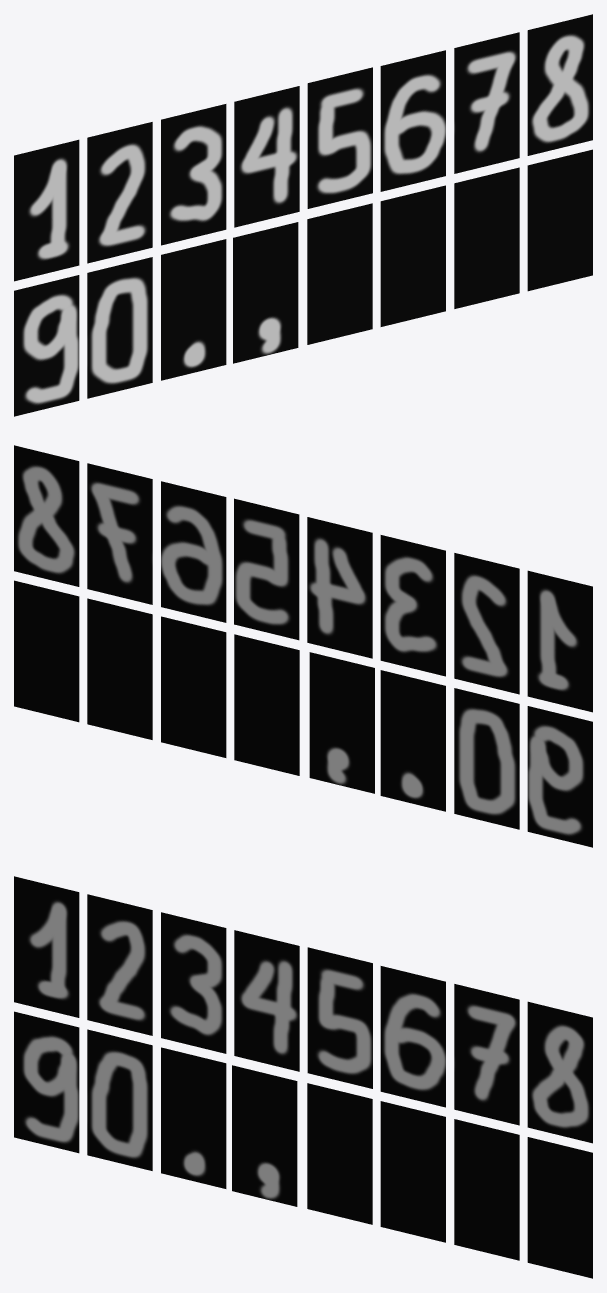
The model's file is Alphabet.obj.
3 views of the same model, one above another, from view 1: azimuth 30°, elevation 25°; view 2: azimuth 150°, elevation 25°; view 3: azimuth 330°, elevation 25° (orthographic).
Visible parts, largest first — view 1: 6_Plane.6, 4_Plane.4, 1_Plane.1, 13_Plane.018, 12_Plane.12, 10_Plane.10, 5_Plane.5, 11_Plane.11, 8_Plane.8, 2_Plane.2, 13.002_Plane.019, 9_Plane.9 (+4 smaller); view 2: 6_Plane.6, 4_Plane.4, 1_Plane.1, 13_Plane.018, 12_Plane.12, 10_Plane.10, 8_Plane.8, 2_Plane.2, 13.002_Plane.019, 9_Plane.9, 3_Plane.3, 13.001_Plane.020 (+4 smaller); view 3: 11_Plane.11, 4_Plane.4, 12_Plane.12, 8_Plane.8, 3_Plane.3, 13.001_Plane.020, 9_Plane.9, 7_Plane.7, 1_Plane.1, 13_Plane.018, 0_Plane.0, 6_Plane.6 (+4 smaller).
Part boxes in pixels (x1,y1,x2,y2): 6_Plane.6: [380, 50, 445, 191]; 4_Plane.4: [234, 86, 299, 227]; 1_Plane.1: [14, 139, 79, 281]; 13_Plane.018: [527, 149, 592, 291]; 12_Plane.12: [307, 203, 372, 344]; 10_Plane.10: [161, 239, 226, 380]; 5_Plane.5: [307, 67, 372, 208]; 11_Plane.11: [233, 222, 298, 363]; 8_Plane.8: [527, 14, 592, 155]; 2_Plane.2: [87, 122, 152, 263]; 13.002_Plane.019: [454, 167, 519, 308]; 9_Plane.9: [14, 275, 79, 416]; 6_Plane.6: [161, 481, 226, 622]; 4_Plane.4: [307, 517, 372, 658]; 1_Plane.1: [527, 570, 592, 712]; 13_Plane.018: [14, 580, 79, 722]; 12_Plane.12: [234, 634, 299, 775]; 10_Plane.10: [380, 670, 445, 811]; 8_Plane.8: [14, 445, 79, 586]; 2_Plane.2: [454, 553, 519, 694]; 13.002_Plane.019: [87, 598, 152, 739]; 9_Plane.9: [527, 706, 592, 847]; 3_Plane.3: [380, 535, 445, 676]; 13.001_Plane.020: [161, 616, 226, 757]; 11_Plane.11: [232, 1065, 297, 1206]; 4_Plane.4: [234, 930, 299, 1071]; 12_Plane.12: [307, 1083, 372, 1224]; 8_Plane.8: [527, 1001, 592, 1143]; 3_Plane.3: [161, 912, 226, 1053]; 13.001_Plane.020: [380, 1101, 445, 1242]; 9_Plane.9: [14, 1011, 79, 1153]; 7_Plane.7: [454, 984, 519, 1125]; 1_Plane.1: [14, 876, 79, 1017]; 13_Plane.018: [527, 1137, 592, 1278]; 0_Plane.0: [87, 1029, 152, 1170]; 6_Plane.6: [380, 966, 445, 1107].
Bounding box in the file's own units: 9.63 × 4.16 × 0.02.
Materials: 1 (1 with a texture image).
